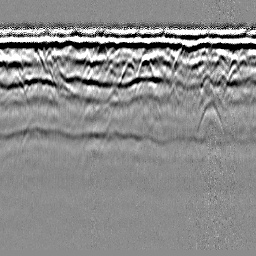cavity: (118, 56, 136, 90)
